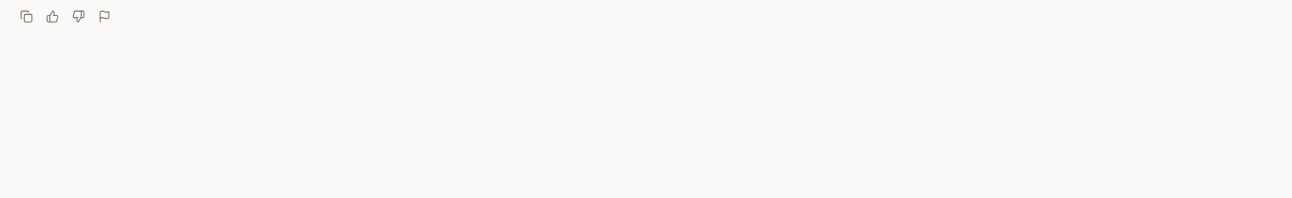
Test case: V6 · a rating with no turnId hands off to the composer › names the destination before the member writes
Click the button named "Not helpful" at (78, 16), box [66, 4, 90, 28]
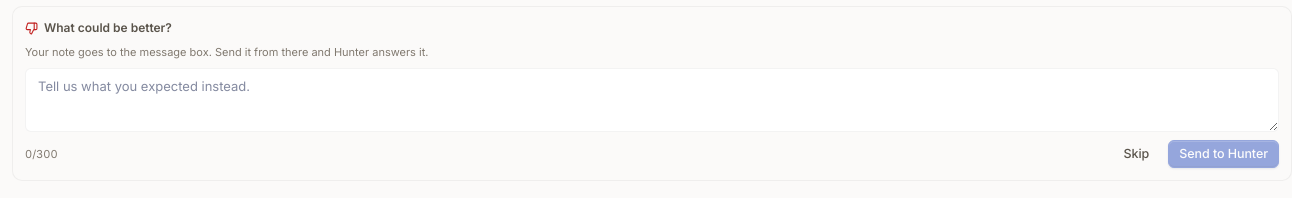
Expected: the text "message box" is shown, [25, 45, 428, 59]
